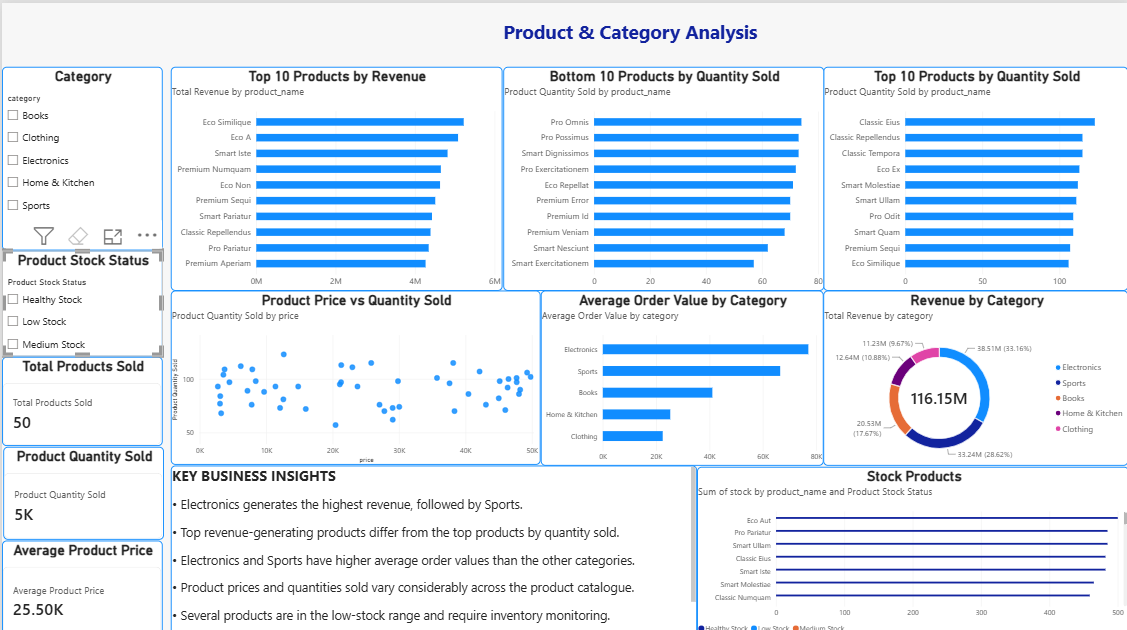

The dashboard page shown, as its layout file describes it:
{"tool":"powerbi","page":{"name":"Products & Category Analysis","canvas":[1920,1080],"ordinal":7},"visuals":[{"type":"cardVisual","title":"Total Products Sold","fields":{"Data":["products.Total Products Sold"]},"box":[0,603.1,273.8,152.3],"z":0},{"type":"cardVisual","title":"Product Quantity Sold","fields":{"Data":["products.Product Quantity Sold"]},"box":[2.1,755.4,273.8,158.5],"z":1000},{"type":"cardVisual","title":"Average Product Price","fields":{"Data":["products.Average Product Price"]},"box":[0,916,273.8,164.7],"z":2000},{"type":"donutChart","title":" Revenue by Category","fields":{"Category":["products.category"],"Y":["order_items.Total Revenue"]},"box":[1398.9,490.4,521.2,298.6],"z":3000},{"type":"clusteredBarChart","title":"Top 10 Products by Quantity Sold","fields":{"Category":["products.product_name"],"Y":["products.Product Quantity Sold"]},"box":[1398.9,108.6,521.2,381.8],"z":4000},{"type":"clusteredBarChart","title":"Bottom 10 Products by Quantity Sold","fields":{"Category":["products.product_name"],"Y":["products.Product Quantity Sold"]},"box":[852.4,108.6,546.5,381.8],"z":5000},{"type":"scatterChart","title":"Product Price vs Quantity Sold","fields":{"X":["products.price"],"Y":["products.Product Quantity Sold"]},"box":[287.7,490.4,629.8,296.8],"z":6000},{"type":"clusteredBarChart","title":"Top 10 Products by Revenue","fields":{"Category":["products.product_name"],"Y":["order_items.Total Revenue"]},"box":[287.7,108.6,564.6,381.8],"z":7000},{"type":"barChart","title":"Average Order Value by Category","fields":{"Category":["products.category"],"Y":["orders.Average Order Value"]},"box":[917.5,490.4,481.4,298.6],"z":8000},{"type":"slicer","title":"Category","fields":{"Values":["products.category"]},"box":[0,109.1,273.8,312.9],"z":9000},{"type":"slicer","title":"Product Stock Status","fields":{"Values":["products.Product Stock Status"]},"box":[0,422,273.8,181.1],"z":10000},{"type":"clusteredBarChart","title":" Stock Products","fields":{"Category":["products.product_name"],"Series":["products.Product Stock Status"],"Y":["Sum(products.stock)"]},"box":[1183.5,789,736.5,291.4],"z":11000},{"type":"textbox","box":[852.1,26.8,467.2,63.8],"z":12000},{"type":"textbox","box":[287.7,787.2,895.8,293.2],"z":13000}]}

Visuals, with their boxes in screenshot pixels (x1, y1, x2, y2), scaled from the page's 1920x1080 canvas onto the 1127x630 screenshot:
"Total Products Sold" cardVisual: [0, 352, 161, 441]
"Product Quantity Sold" cardVisual: [1, 441, 162, 533]
"Average Product Price" cardVisual: [0, 534, 161, 629]
" Revenue by Category" donutChart: [821, 286, 1126, 460]
"Top 10 Products by Quantity Sold" clusteredBarChart: [821, 63, 1126, 286]
"Bottom 10 Products by Quantity Sold" clusteredBarChart: [500, 63, 821, 286]
"Product Price vs Quantity Sold" scatterChart: [169, 286, 539, 459]
"Top 10 Products by Revenue" clusteredBarChart: [169, 63, 500, 286]
"Average Order Value by Category" barChart: [539, 286, 821, 460]
"Category" slicer: [0, 64, 161, 246]
"Product Stock Status" slicer: [0, 246, 161, 352]
" Stock Products" clusteredBarChart: [695, 460, 1126, 629]
textbox: [500, 16, 774, 53]
textbox: [169, 459, 695, 629]
